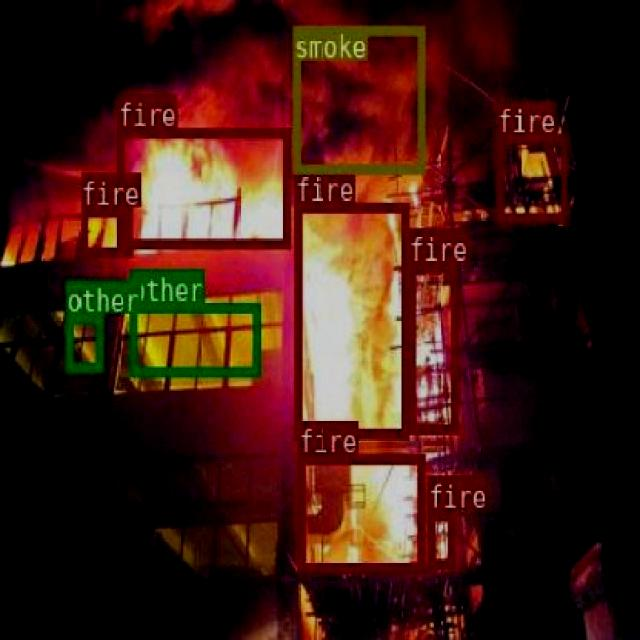fire: (293, 200, 407, 438), (116, 126, 290, 248), (296, 453, 424, 572), (406, 262, 457, 432), (494, 132, 566, 222), (79, 206, 130, 254), (426, 508, 454, 568)
smoke: (292, 23, 423, 172)
